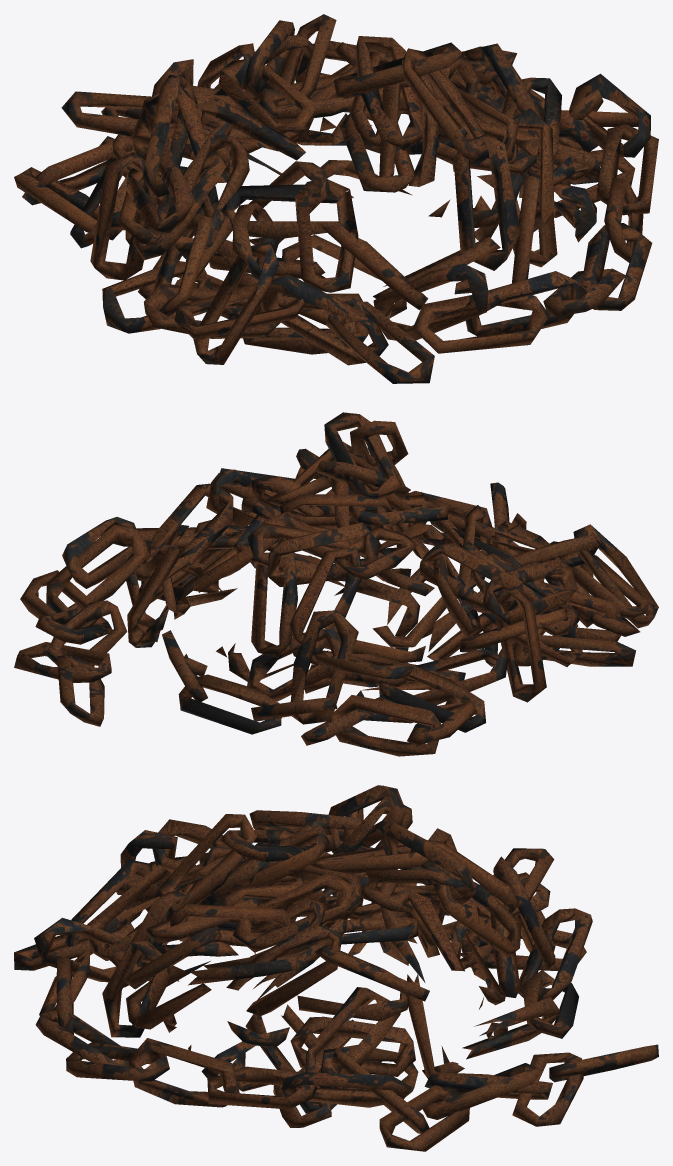
Rendered from SM_Chain_01.fbx.
3 views of the same model, one above another, from view 1: azimuth 30°, elevation 25°; view 2: azimuth 150°, elevation 25°; view 3: azimuth 270°, elevation 25° (orthographic). The views are drawn at different scales.
Visible parts, largest first — view 1: SM_Chain_01; view 2: SM_Chain_01; view 3: SM_Chain_01.
Boxes of the visible parts, x1,y1,x2,y2 form: SM_Chain_01: [14, 14, 658, 383]; SM_Chain_01: [14, 412, 658, 756]; SM_Chain_01: [14, 785, 658, 1151].
Bounding box in the file's own units: 75.78 × 26.33 × 74.61.
